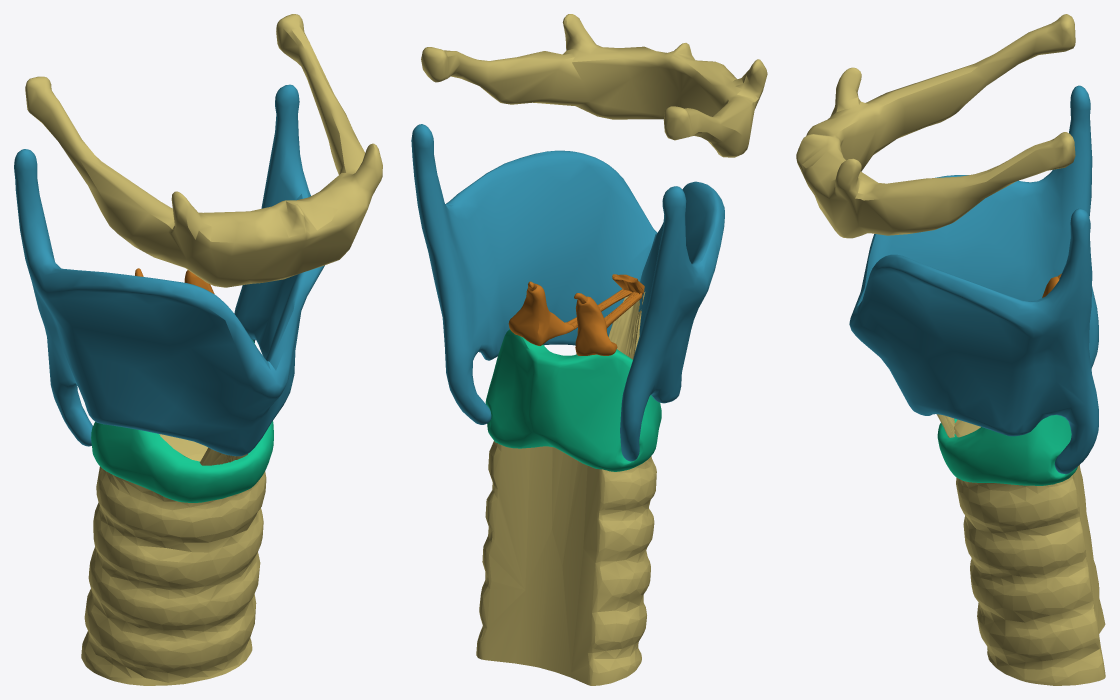
The model's file is fbx_frame_0046.obj.
The picture shows the model from 3 angles, left to right: view 1: azimuth 30°, elevation 25°; view 2: azimuth 150°, elevation 25°; view 3: azimuth 270°, elevation 25°; orthographic projection. The views are drawn at different scales.
Visible parts, largest first — view 1: maya2sketchfab.010, maya2sketchfab.001, maya2sketchfab.011, maya2sketchfab.005; view 2: maya2sketchfab.010, maya2sketchfab.001, maya2sketchfab.011, maya2sketchfab.005, maya2sketchfab.006, maya2sketchfab.004; view 3: maya2sketchfab.010, maya2sketchfab.001, maya2sketchfab.011, maya2sketchfab.005.
Boxes of the visible parts, x1,y1,x2,y2 form: maya2sketchfab.010: (14, 84, 324, 456); maya2sketchfab.001: (81, 434, 266, 685); maya2sketchfab.011: (25, 14, 382, 287); maya2sketchfab.005: (91, 340, 273, 502); maya2sketchfab.010: (411, 124, 724, 461); maya2sketchfab.001: (476, 291, 656, 685); maya2sketchfab.011: (421, 14, 767, 157); maya2sketchfab.005: (485, 329, 661, 471); maya2sketchfab.006: (508, 281, 574, 345); maya2sketchfab.004: (574, 293, 617, 355); maya2sketchfab.010: (849, 85, 1098, 474); maya2sketchfab.001: (937, 414, 1105, 685); maya2sketchfab.011: (796, 14, 1075, 238); maya2sketchfab.005: (937, 415, 1077, 485).
Bounding box in the file's own units: 38.66 × 78.54 × 38.32.
